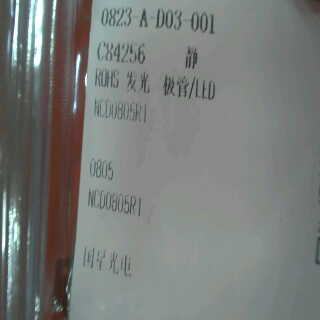LED: (121, 65, 225, 104)
